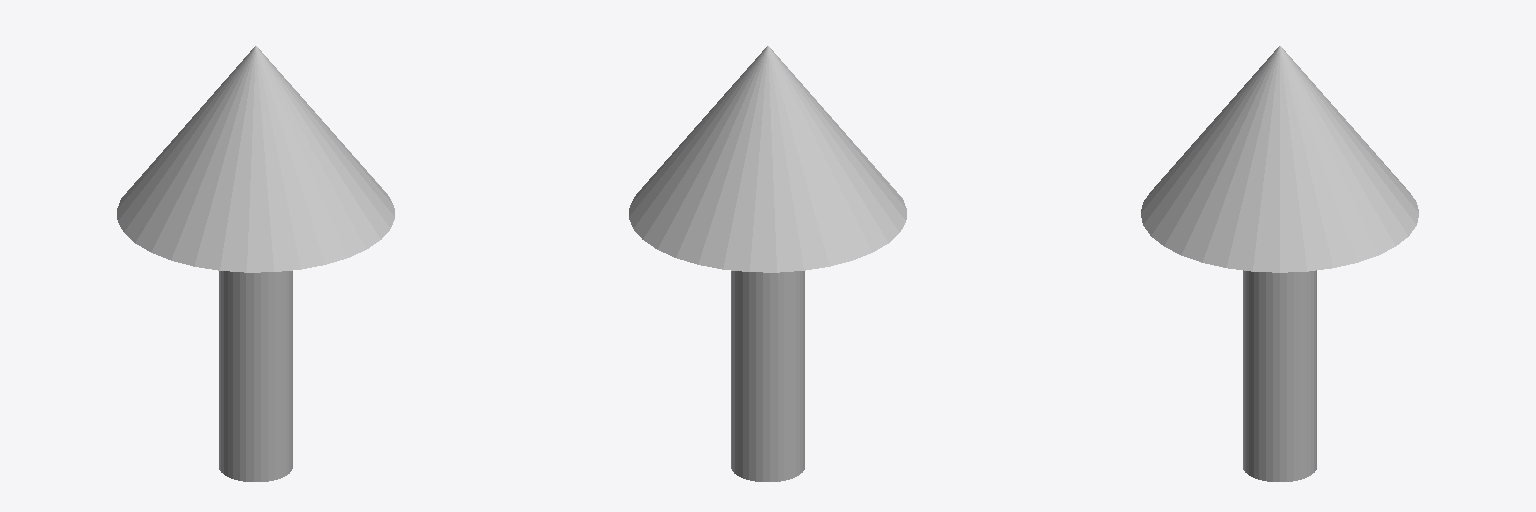
The model's file is vector.obj.
3 views of the same model, side by side, from view 1: azimuth 30°, elevation 25°; view 2: azimuth 150°, elevation 25°; view 3: azimuth 270°, elevation 25° (orthographic).
Parts seen in each view (by area): view 1: Cone.002, Cylinder.005; view 2: Cone.002, Cylinder.005; view 3: Cone.002, Cylinder.005.
Boxes of the visible parts, x1=… form: Cone.002: x1=117, y1=46, x2=394, y2=272; Cylinder.005: x1=219, y1=271, x2=292, y2=481; Cone.002: x1=629, y1=46, x2=906, y2=272; Cylinder.005: x1=731, y1=271, x2=804, y2=481; Cone.002: x1=1141, y1=46, x2=1418, y2=272; Cylinder.005: x1=1243, y1=270, x2=1316, y2=481.
Bounding box in the file's own units: 0.6 × 1 × 0.6.